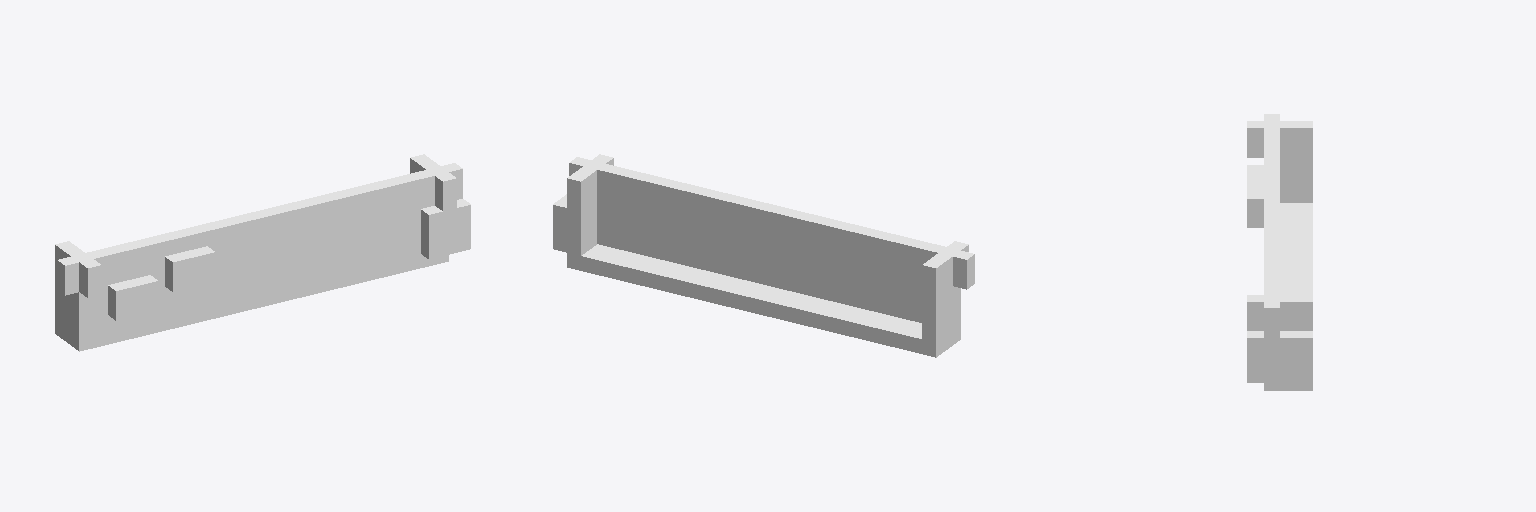
The model's file is SmallBuilding01-6.obj.
3 renders of one model, left to right at view 1: azimuth 30°, elevation 25°; view 2: azimuth 150°, elevation 25°; view 3: azimuth 270°, elevation 25°, orthographic.
Visible parts, largest first — view 1: object 1; view 2: object 1; view 3: object 1.
Boxes of the visible parts, x1,y1,x2,y2 form: object 1: [55, 154, 470, 351]; object 1: [553, 154, 974, 357]; object 1: [1247, 114, 1312, 390].
Size of the model in its own units: 2.8 by 0.6 by 0.4.